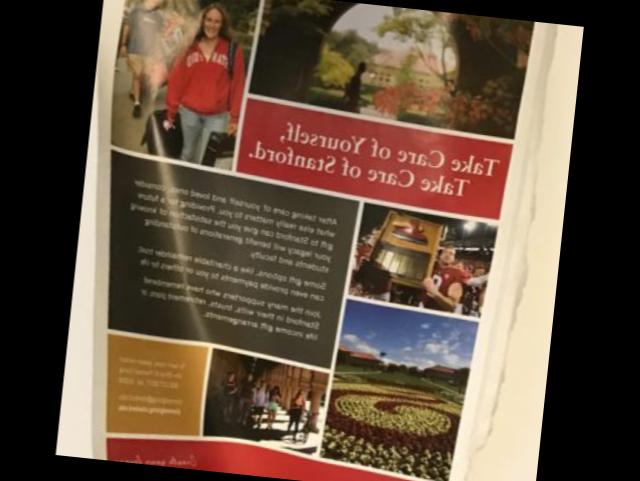cardboard paper: (98, 0, 557, 481)
